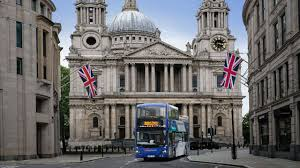bus: (134, 100, 193, 161)
